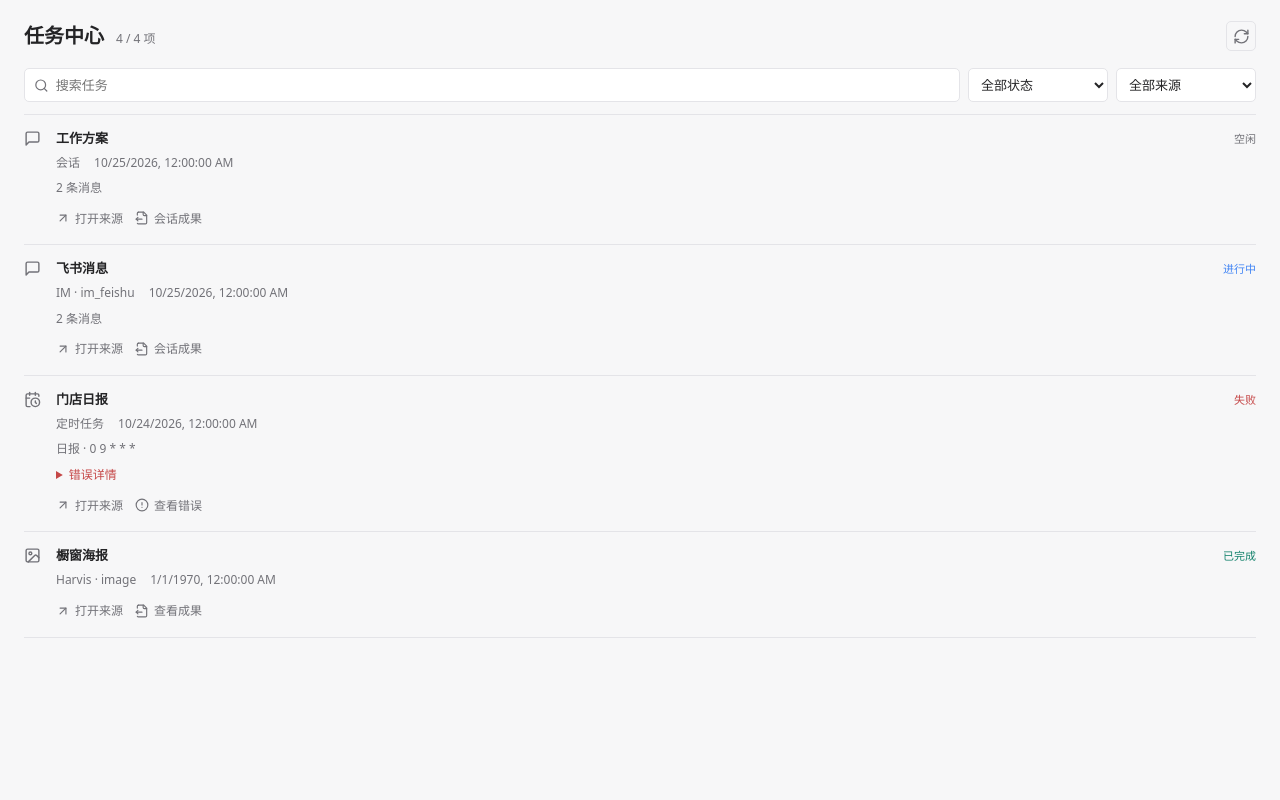
Test case: TaskCenter standalone page › shows real sources, filters and sends typed source/result/error navigation callbacks
Expected: the heading "工作方案" is shown, [56,128,108,148]
Expected: the heading "飞书消息" is shown, [56,258,108,278]
Click the button "打开来源" below "Harvis · image" at [90, 610], box [56,598,123,624]
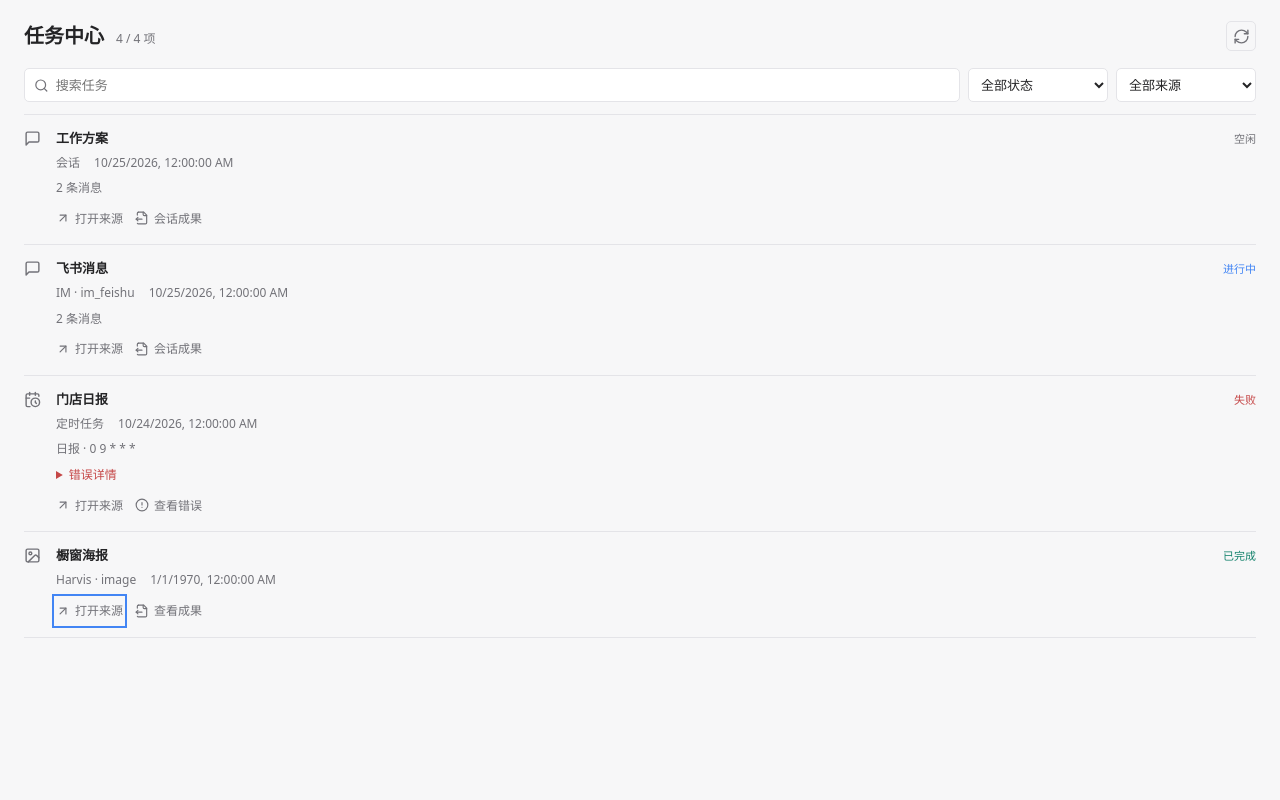
Click the button "查看成果" at [168, 610], box [135,598,202,624]
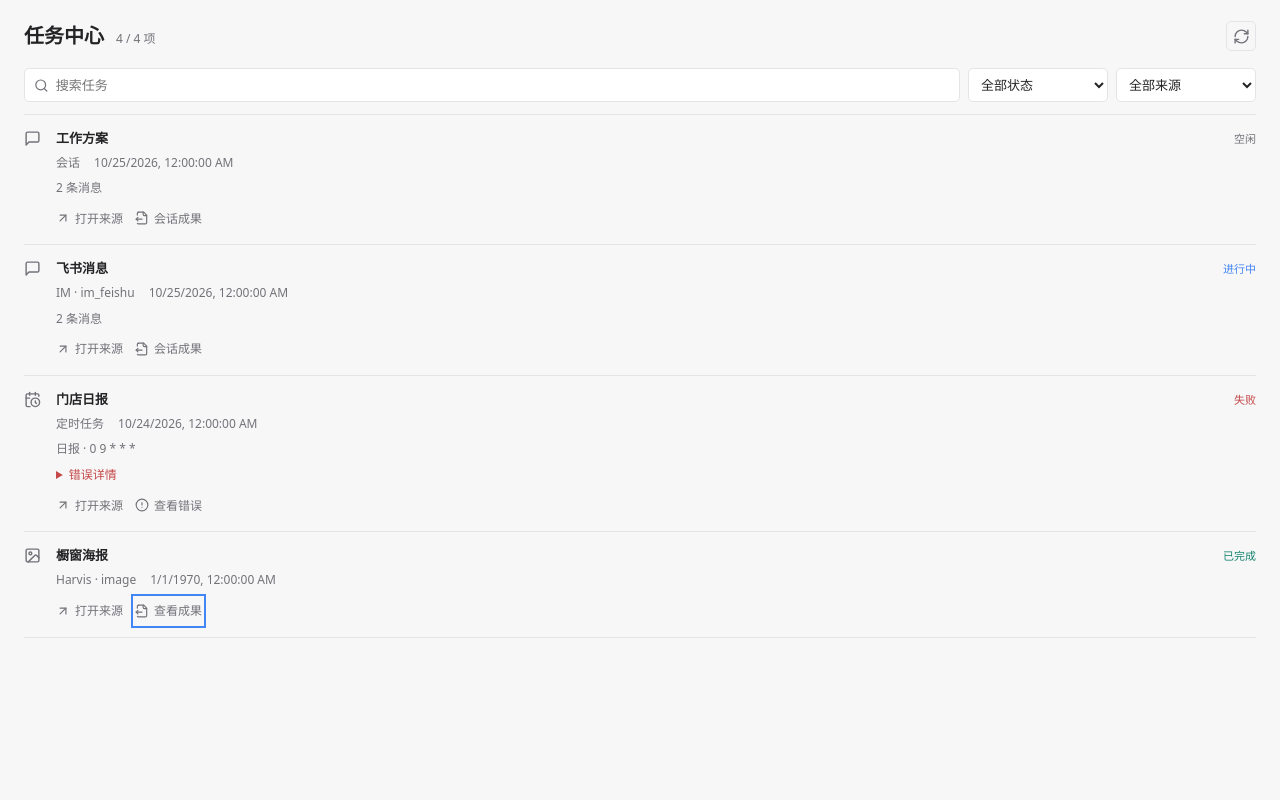
Click the button "查看错误" at [168, 505], box [135,492,202,518]
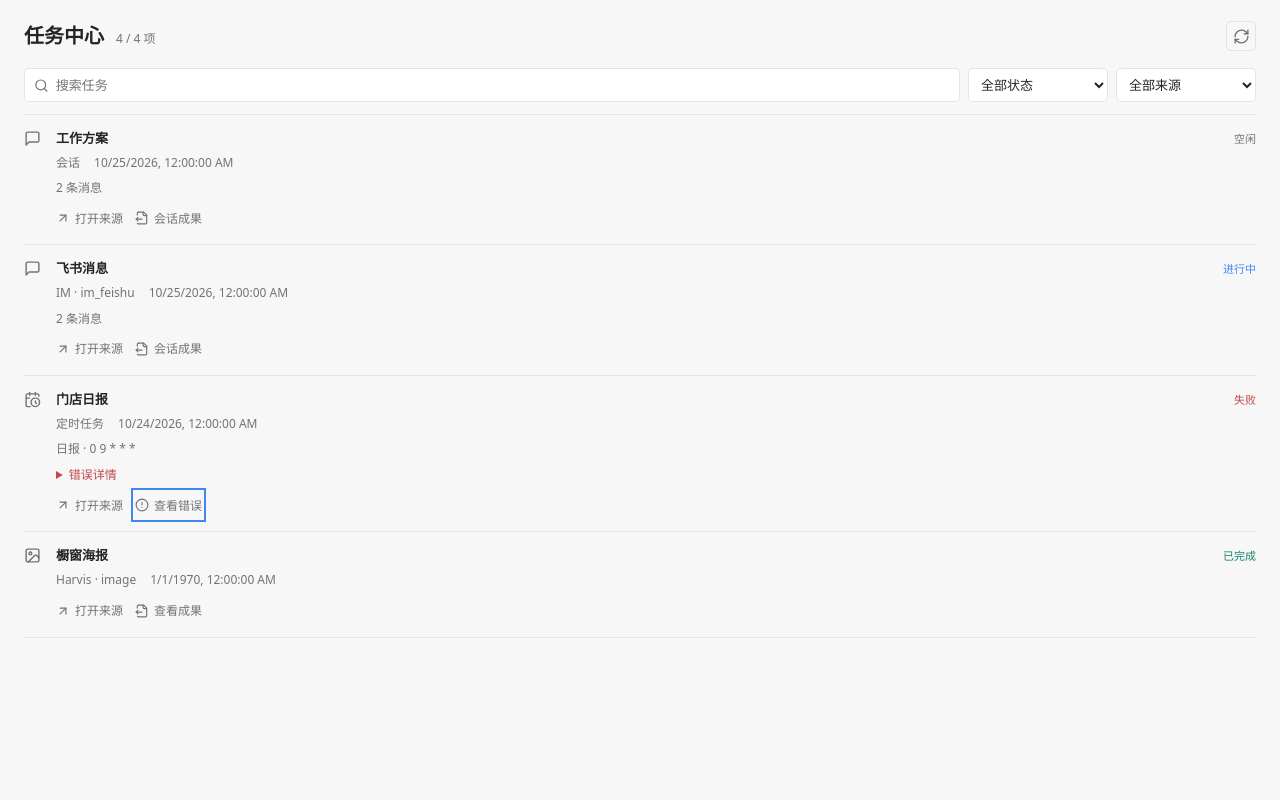
Select "进行中" in the dropdown named "任务状态" at [1038, 85], box [968,68,1108,102]
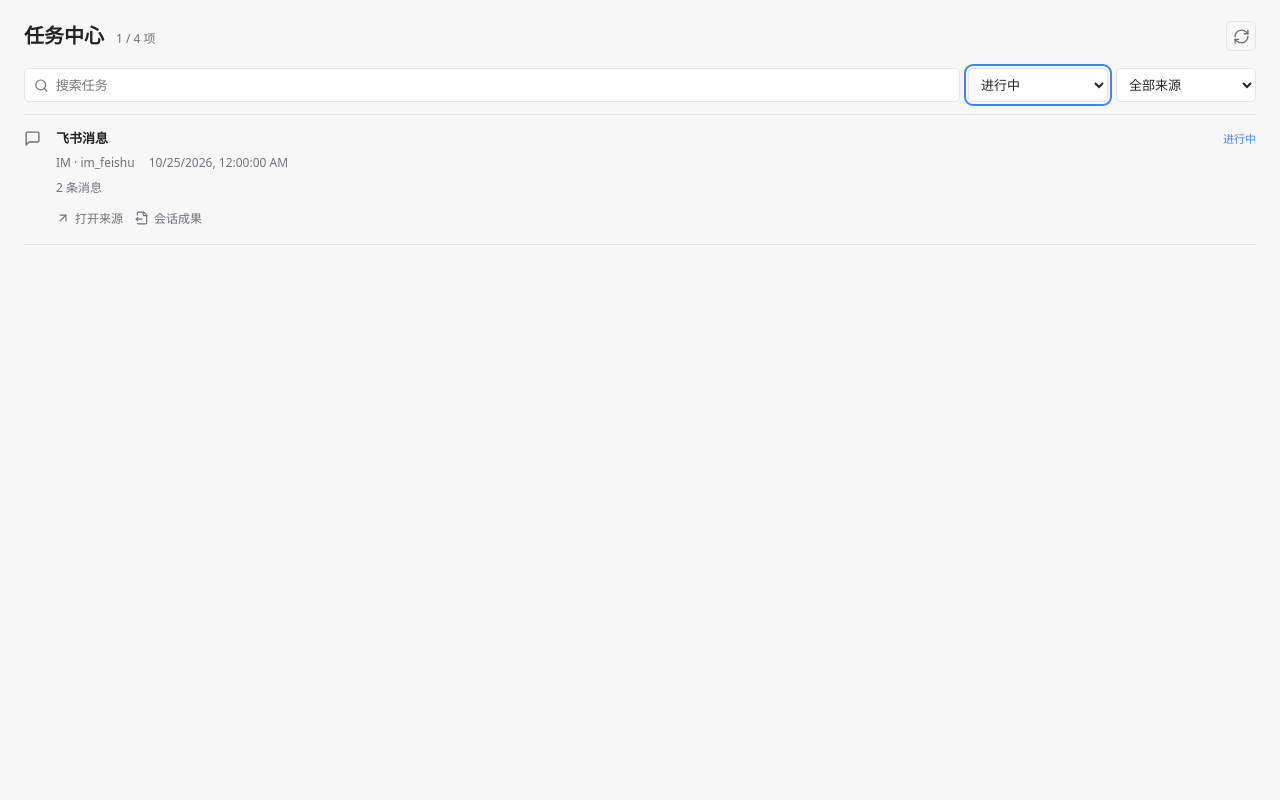
Expected: the heading "飞书消息" is shown, [56,128,108,148]
Expected: the heading "工作方案" is gone
Type "不存在" into the search field labelled "搜索任务" at [503, 85], box [56,69,950,101]
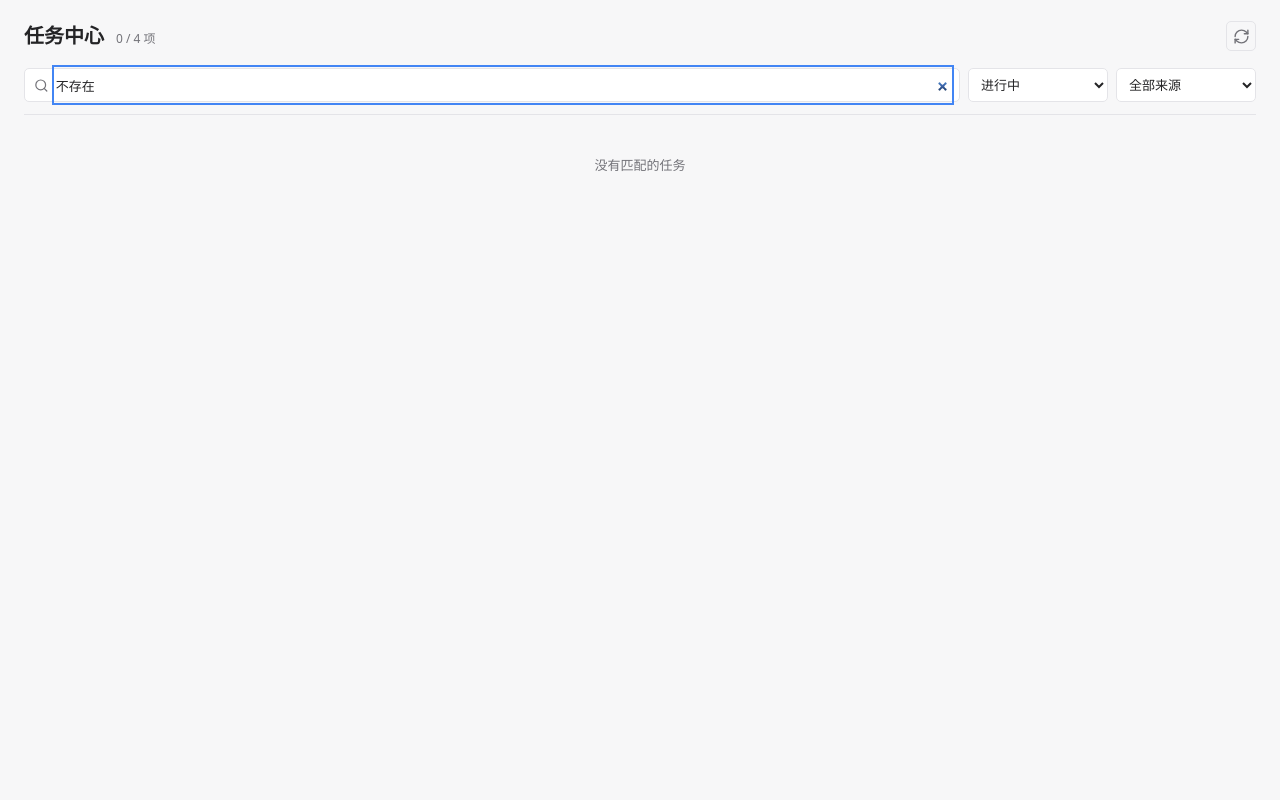
Expected: the text "没有匹配的任务" is shown, [594,156,686,174]
